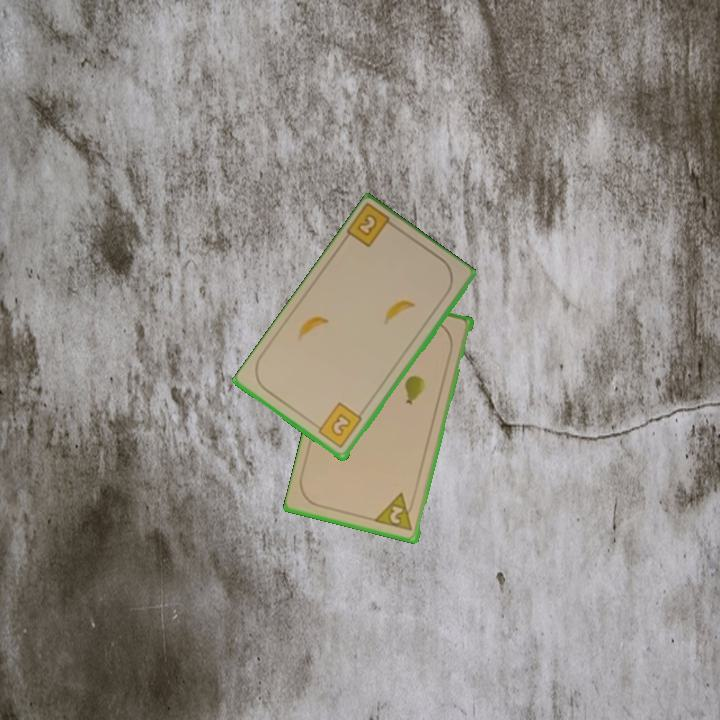2b: (343, 202, 401, 251), (311, 399, 365, 451)
2p: (373, 490, 417, 534)
